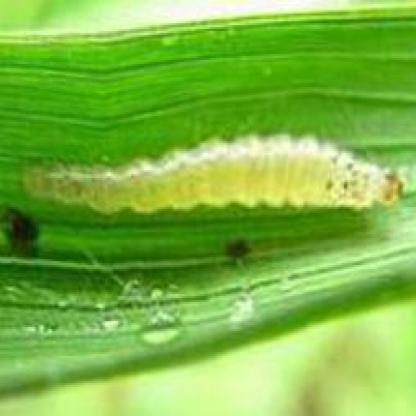leaf-folder: (25, 106, 416, 250)
